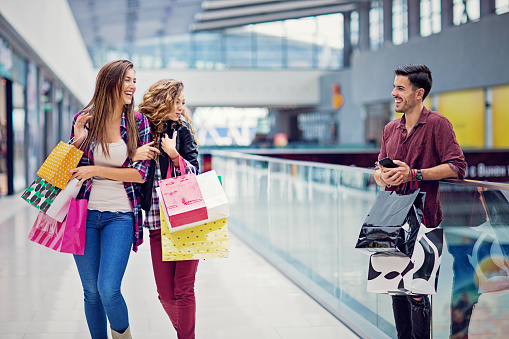Head: (391, 64, 424, 112), (107, 60, 137, 108), (162, 79, 185, 121)
